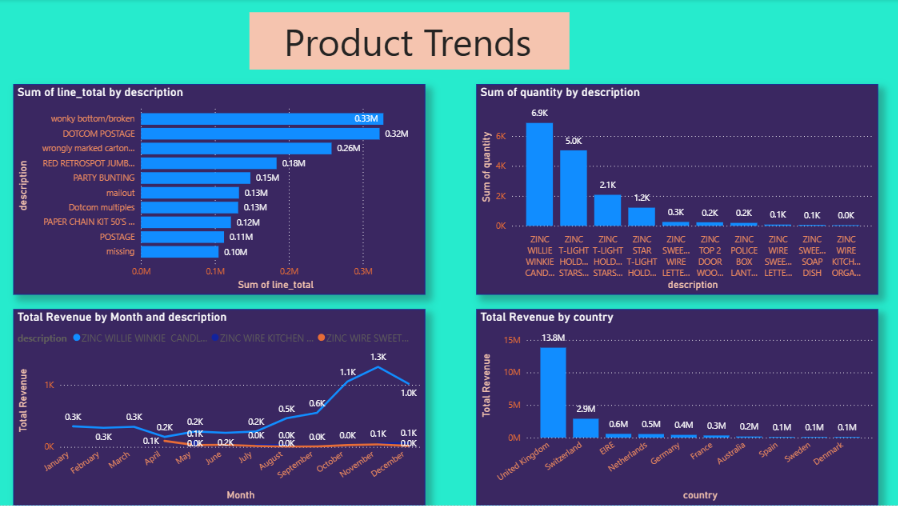

The dashboard page shown, as its layout file describes it:
{"tool":"powerbi","page":{"name":"Page 3","canvas":[1280,720],"ordinal":2},"visuals":[{"type":"textbox","box":[357.1,18.3,454.9,81.9],"z":0},{"type":"clusteredBarChart","fields":{"Category":["retail_db products.description"],"Y":["Sum(retail_db order_items.line_total)"]},"box":[20.8,121.1,585.7,299.6],"z":1000},{"type":"lineChart","fields":{"Category":["retail_db orders.invoice_date.Variation.Date Hierarchy.Month"],"Y":["retail_db orders.Total Revenue"],"Series":["retail_db products.description"]},"box":[20.8,441.4,585.7,278.8],"z":2000},{"type":"columnChart","fields":{"Category":["retail_db products.description"],"Y":["Sum(retail_db order_items.quantity)"]},"box":[679.9,121.1,571.1,299.6],"z":3000},{"type":"columnChart","fields":{"Y":["retail_db orders.Total Revenue"],"Category":["retail_db customers.country"]},"box":[679.9,441.4,571.1,278.8],"z":4000}]}

Visuals, with their boxes in screenshot pixels (x1, y1, x2, y2), scaled from the page's 1280x720 canvas onto the 898x506 screenshot:
textbox: <bbox>251, 13, 570, 70</bbox>
clusteredBarChart - retail_db products.description x Sum(retail_db order_items.line_total): <bbox>15, 85, 425, 296</bbox>
lineChart - retail_db orders.invoice_date.Variation.Date Hierarchy.Month x retail_db orders.Total Revenue: <bbox>15, 310, 425, 505</bbox>
columnChart - retail_db products.description x Sum(retail_db order_items.quantity): <bbox>477, 85, 878, 296</bbox>
columnChart - retail_db orders.Total Revenue x retail_db customers.country: <bbox>477, 310, 878, 505</bbox>
